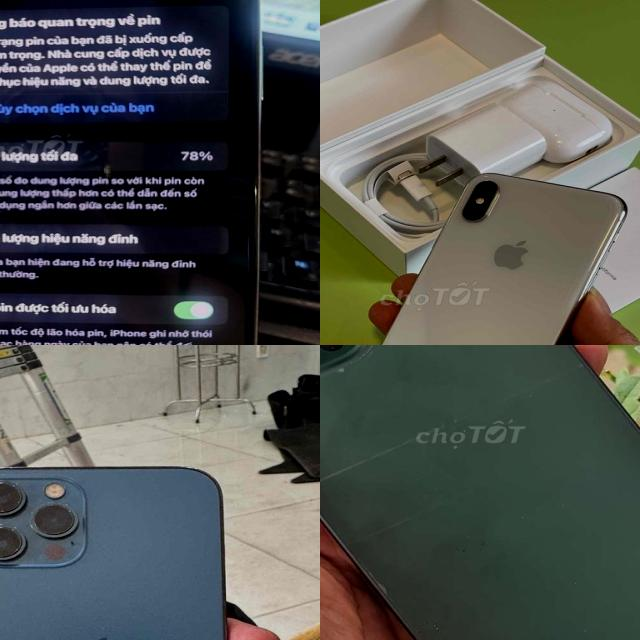scratch: (320, 363, 640, 551)
